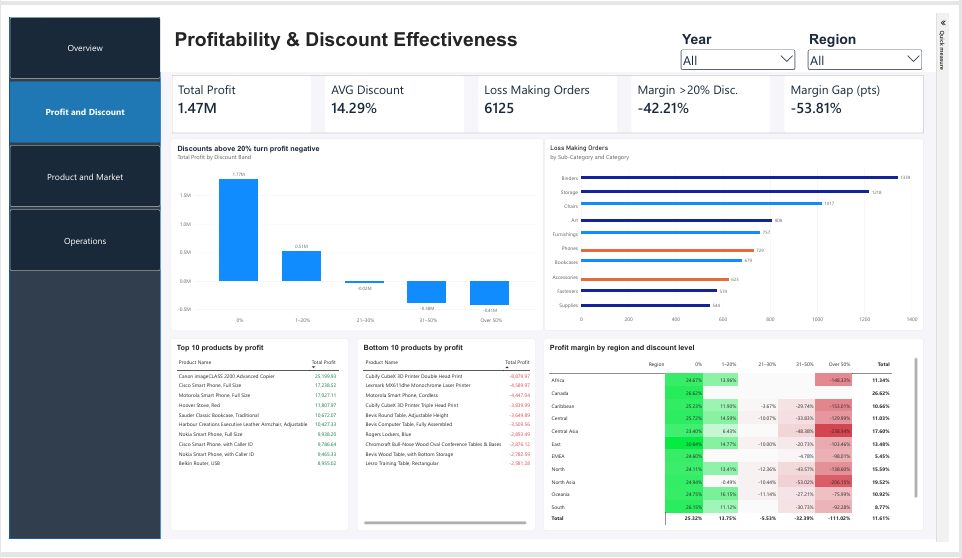

What the dashboard file says about the page in this screenshot:
{"tool":"powerbi","page":{"name":"Profit and Discount","canvas":[2560,1440],"ordinal":1},"visuals":[{"type":"shape","box":[0,0,415.5,1440],"z":0},{"type":"shape","box":[416.6,0,2143.4,151.2],"z":1000},{"type":"textbox","box":[435,31,1003.6,126.8],"z":2000},{"type":"slicer","fields":{"Values":["Sheet1.Region"]},"box":[2199.7,37.6,325.6,137.7],"z":3000},{"type":"slicer","fields":{"Values":["Sheet1.Order Date.Variation.Date Hierarchy.Year","Sheet1.Order Date.Variation.Date Hierarchy.Quarter","Sheet1.Order Date.Variation.Date Hierarchy.Month"]},"box":[1849,37.6,325.6,137.7],"z":4000},{"type":"cardVisual","fields":{"Data":["Sheet1.Total Profit","Sheet1.AVG Discount","Sheet1.Loss Making Orders","Sheet1.High-Discount Margin","Sheet1.Margin Impact of High Discounts"]},"box":[448,160,2080,160],"z":5000},{"type":"lineClusteredColumnComboChart","title":"Discounts above 20% turn profit negative","fields":{"Category":["Sheet1.Discount Band"],"Y":["Sheet1.Total Profit"]},"box":[443.7,334.5,1031.7,531.7],"z":6000},{"type":"clusteredBarChart","fields":{"Category":["Sheet1.Sub-Category"],"Series":["Sheet1.Category"],"Y":["Sheet1.Loss Making Orders"]},"box":[1476,335,1049,530],"z":7000},{"type":"tableEx","title":"Top 10 products by profit","fields":{"Values":["Sheet1.Product Name","Sheet1.Total Profit"]},"box":[444,886,492,532],"z":8000},{"type":"actionButton","box":[0,0,100,40],"z":9000},{"type":"tableEx","title":"Bottom 10 products by profit","fields":{"Values":["Sheet1.Product Name","Sheet1.Total Profit"]},"box":[960,886,492,532],"z":10000},{"type":"pivotTable","title":"Profit margin by region and discount level","fields":{"Columns":["Sheet1.Discount Band"],"Rows":["Sheet1.Region"],"Values":["Sheet1.Profit Margin"]},"box":[1475.4,887.4,1049.4,531.7],"z":11000},{"type":"pageNavigator","box":[0,0,415.5,700.7],"z":12000}]}

Visuals, with their boxes on the page's 2560x1440 design canvas (x1, y1, x2, y2). These are canvas units, not pixel positions in the 962x558 screenshot, which may show the page scaled, cropped or inside an application window:
shape: (0, 0, 416, 1440)
shape: (417, 0, 2560, 151)
textbox: (435, 31, 1439, 158)
slicer - Sheet1.Region: (2200, 38, 2525, 175)
slicer - Sheet1.Order Date.Variation.Date Hierarchy.Year x Sheet1.Order Date.Variation.Date Hierarchy.Quarter: (1849, 38, 2175, 175)
cardVisual - Sheet1.Total Profit x Sheet1.AVG Discount: (448, 160, 2528, 320)
"Discounts above 20% turn profit negative" lineClusteredColumnComboChart: (444, 334, 1475, 866)
clusteredBarChart - Sheet1.Sub-Category x Sheet1.Category: (1476, 335, 2525, 865)
"Top 10 products by profit" tableEx: (444, 886, 936, 1418)
actionButton: (0, 0, 100, 40)
"Bottom 10 products by profit" tableEx: (960, 886, 1452, 1418)
"Profit margin by region and discount level" pivotTable: (1475, 887, 2525, 1419)
pageNavigator: (0, 0, 416, 701)
